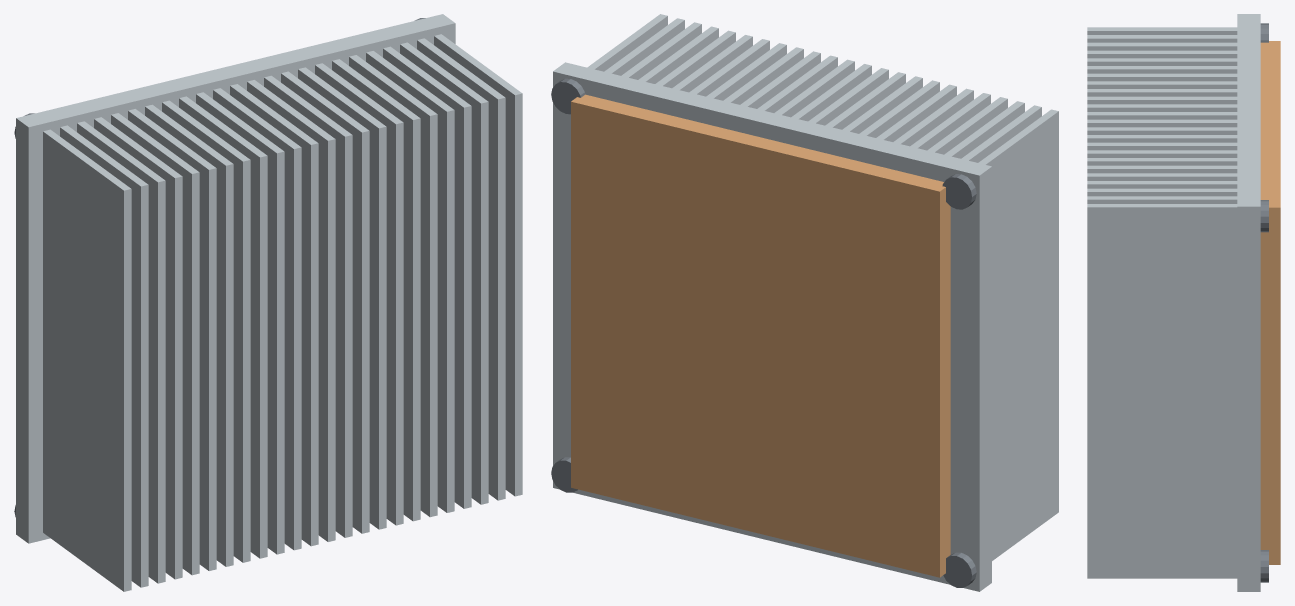
Rendered from 133_L110_CPU_RemovableHeatsink.glb.
The picture shows the model from 3 angles, left to right: view 1: azimuth 30°, elevation 25°; view 2: azimuth 150°, elevation 25°; view 3: azimuth 270°, elevation 25°; orthographic projection. The views are drawn at different scales.
Parts seen in each view (by area): view 1: L110_CPU_RemovableHeatsink_ALUMINUM; view 2: L110_CPU_RemovableHeatsink_COPPER, L110_CPU_RemovableHeatsink_ALUMINUM, L110_CPU_RemovableHeatsink_DARK_METAL; view 3: L110_CPU_RemovableHeatsink_ALUMINUM, L110_CPU_RemovableHeatsink_COPPER, L110_CPU_RemovableHeatsink_DARK_METAL.
Boxes of the visible parts, x1=… form: L110_CPU_RemovableHeatsink_ALUMINUM: x1=16, y1=14, x2=522, y2=591; L110_CPU_RemovableHeatsink_COPPER: x1=571, y1=94, x2=950, y2=577; L110_CPU_RemovableHeatsink_ALUMINUM: x1=553, y1=14, x2=1058, y2=591; L110_CPU_RemovableHeatsink_DARK_METAL: x1=551, y1=78, x2=976, y2=587; L110_CPU_RemovableHeatsink_ALUMINUM: x1=1087, y1=14, x2=1260, y2=591; L110_CPU_RemovableHeatsink_COPPER: x1=1260, y1=41, x2=1280, y2=564; L110_CPU_RemovableHeatsink_DARK_METAL: x1=1260, y1=23, x2=1268, y2=582.
Bounding box in the file's own units: 59 × 55 × 25.
